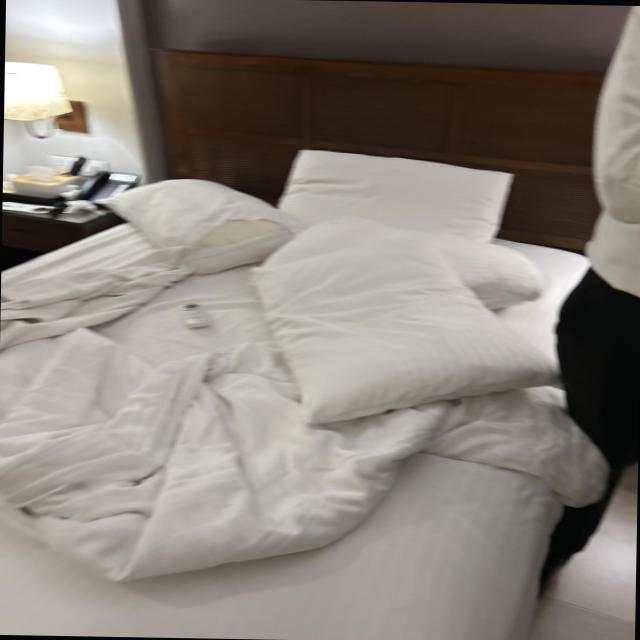mess: (0, 257, 497, 640), (138, 164, 540, 476), (20, 128, 138, 258)
